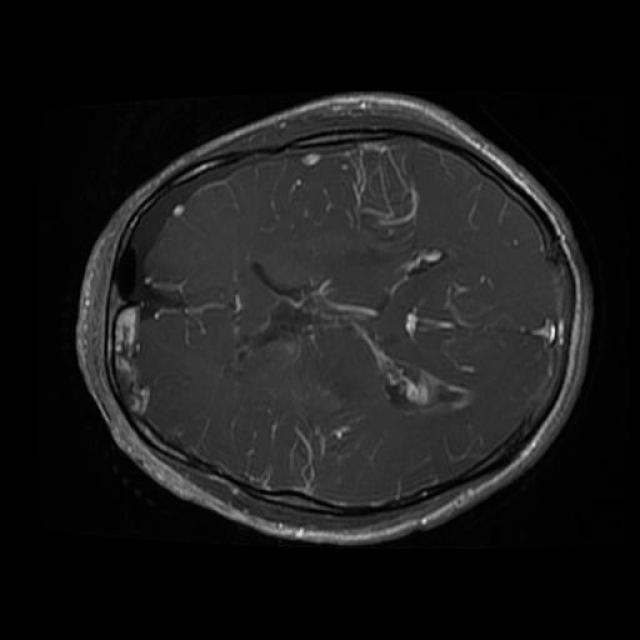Glioma: (341, 143, 418, 240)
